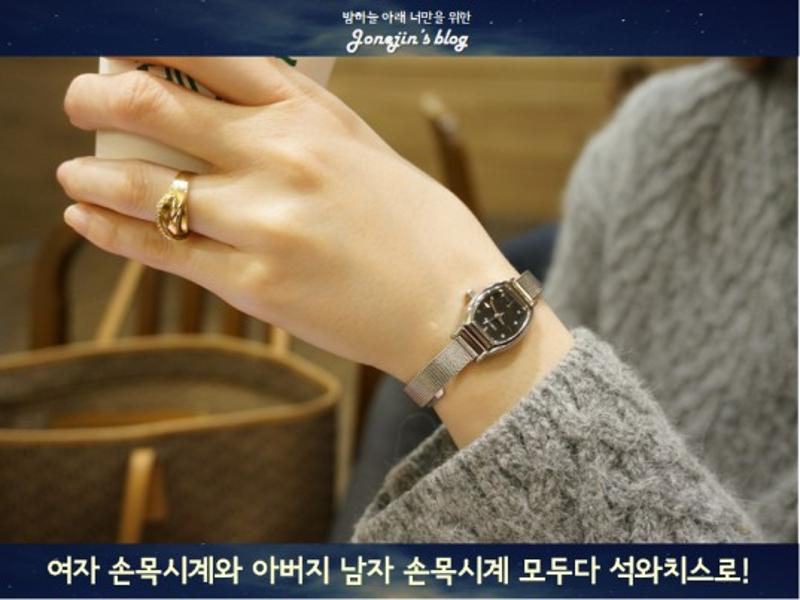watch: (400, 267, 545, 407)
